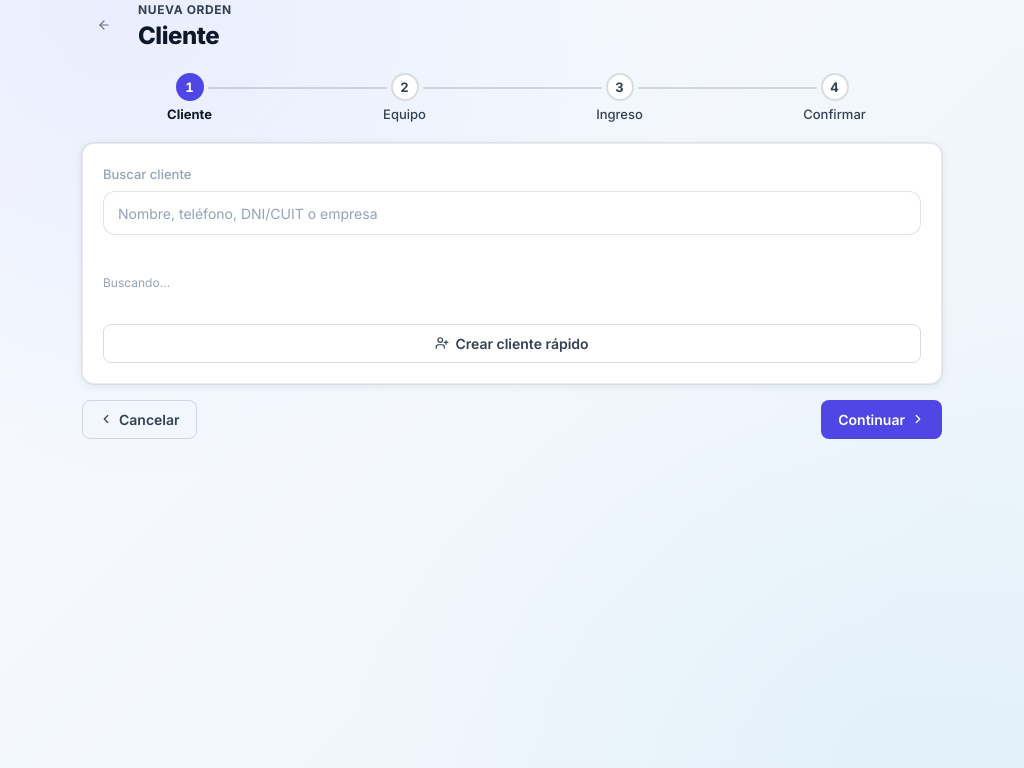
Test case: alta canónica · paridad visual y de interacción › crear, seleccionar y reabrir limpia formulario y error del servidor
Click the button "Crear cliente rápido": (512, 343) [103,324,921,363]
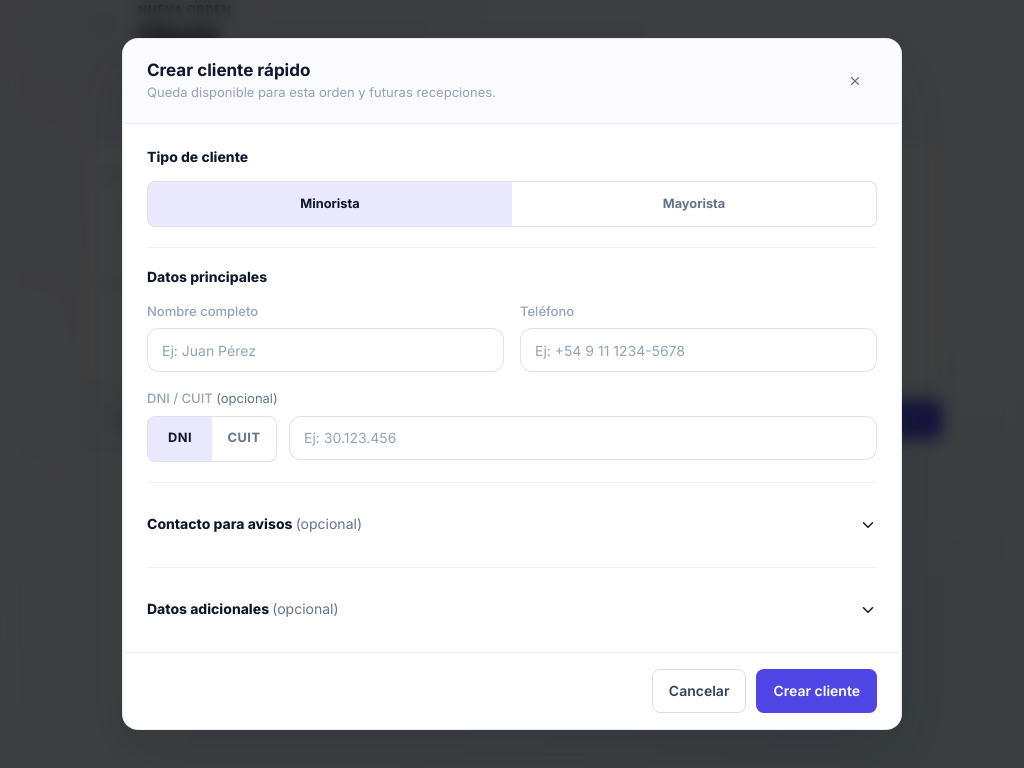
In the field labelled "Nombre completo": (326, 350) [147,328,504,372], type "Cliente Seleccionado"
In the field labelled "Teléfono": (698, 350) [520,328,877,372], type "3510000001"
Click the button with test id "customer-additional-toggle": (210, 609) [147,588,877,632]
(page scrolled)
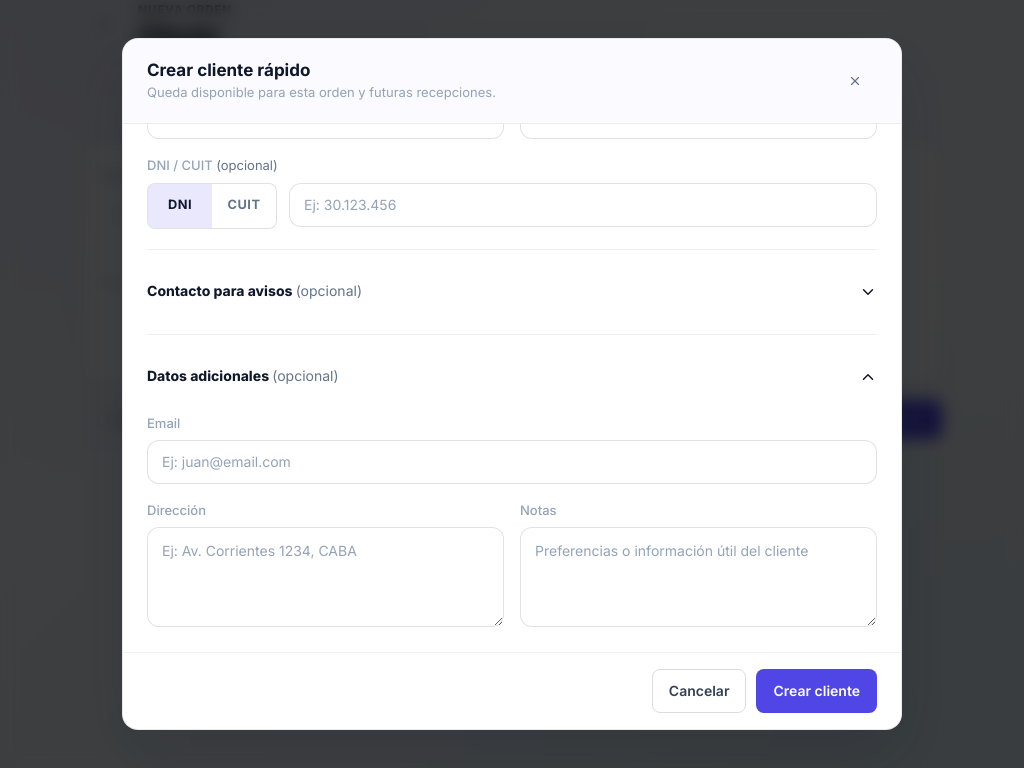
In the text box labelled "Notas": (698, 577) [520,527,877,627], type "No debe sobrevivir"
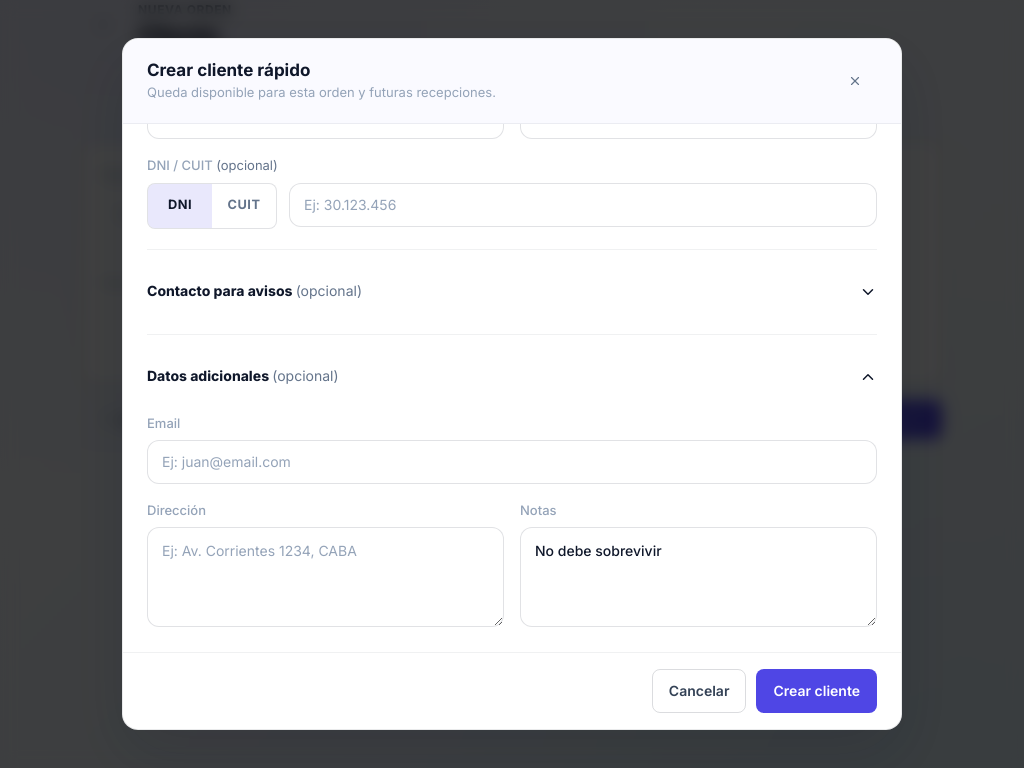
Click the button "Crear cliente": (817, 691) [756,669,877,713]
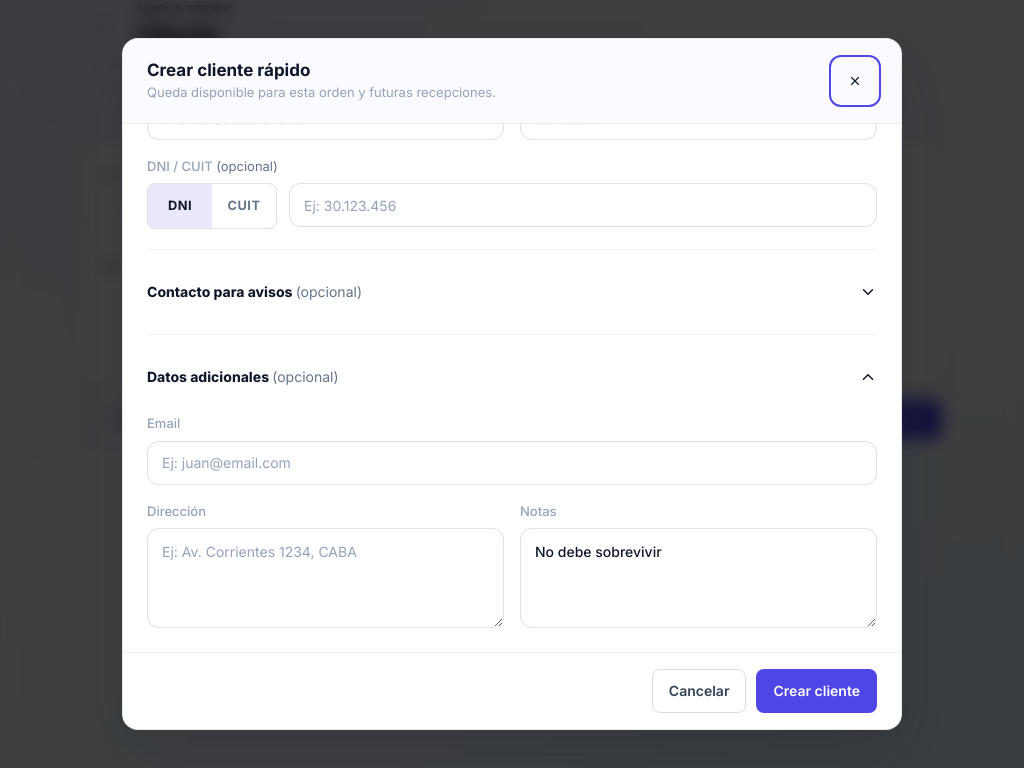
Click the button "Crear cliente": (817, 691) [756,669,877,713]
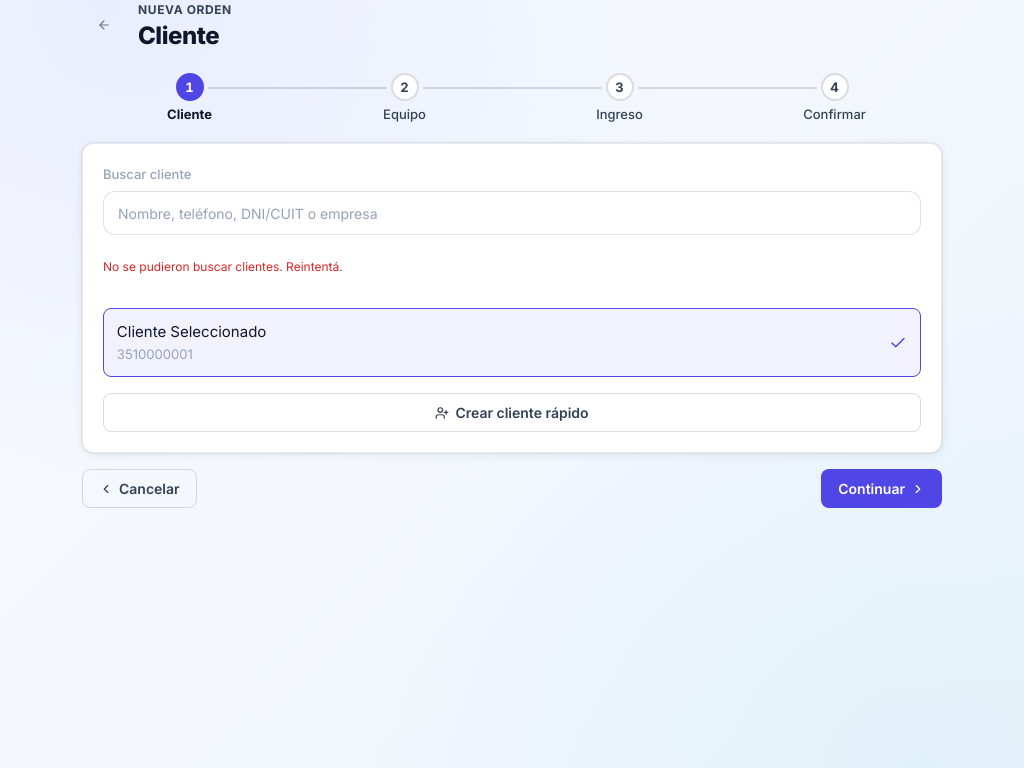
Click the button "Crear cliente rápido": (512, 413) [103,393,921,432]
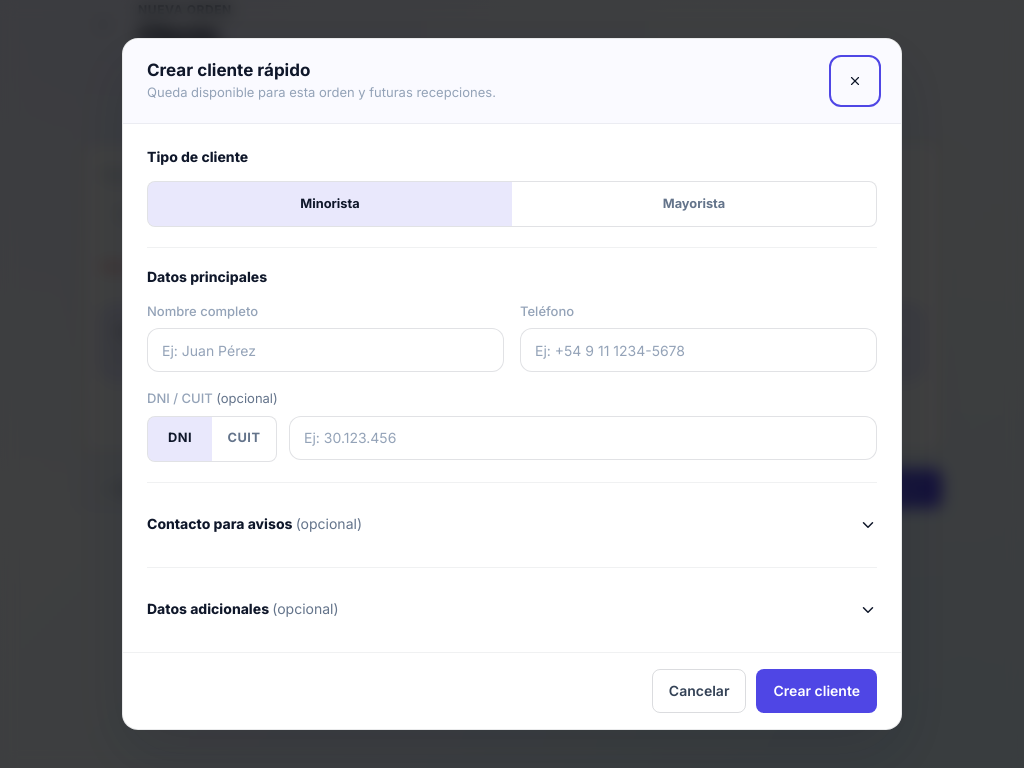
Expected: the button with test id "customer-additional-toggle" is collapsed, [147,588,877,632]
Expected: the field labelled "Nombre completo" is empty, [147,328,504,372]
Expected: the field labelled "Teléfono" is empty, [520,328,877,372]
